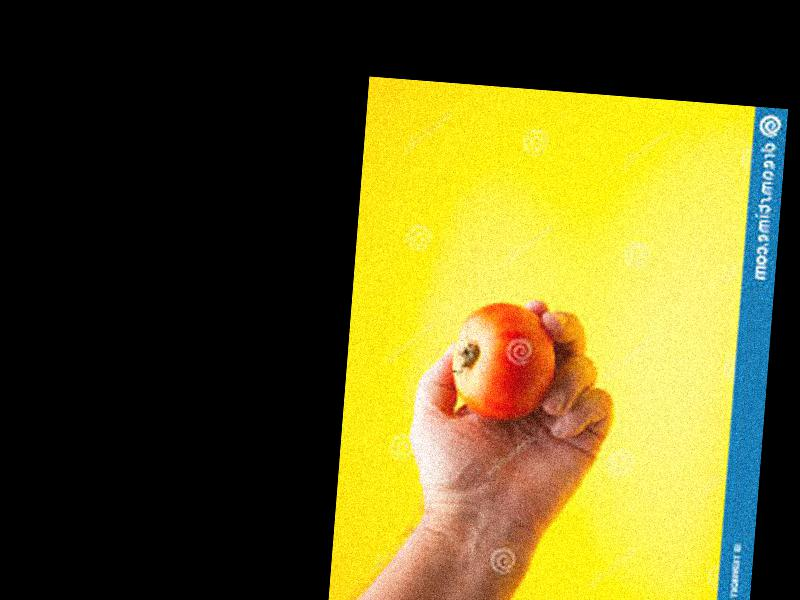Tomato: (449, 300, 558, 422)
